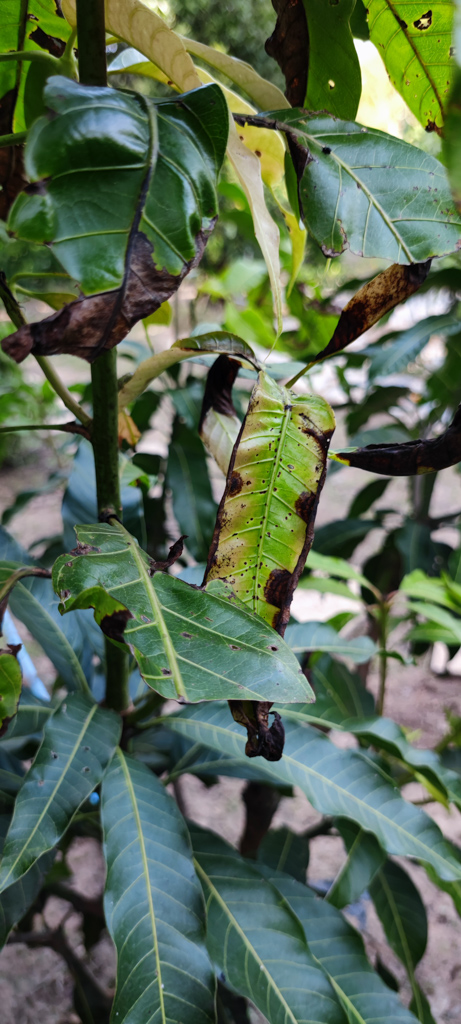Alternaria brassicicola: (215, 375, 335, 637)
